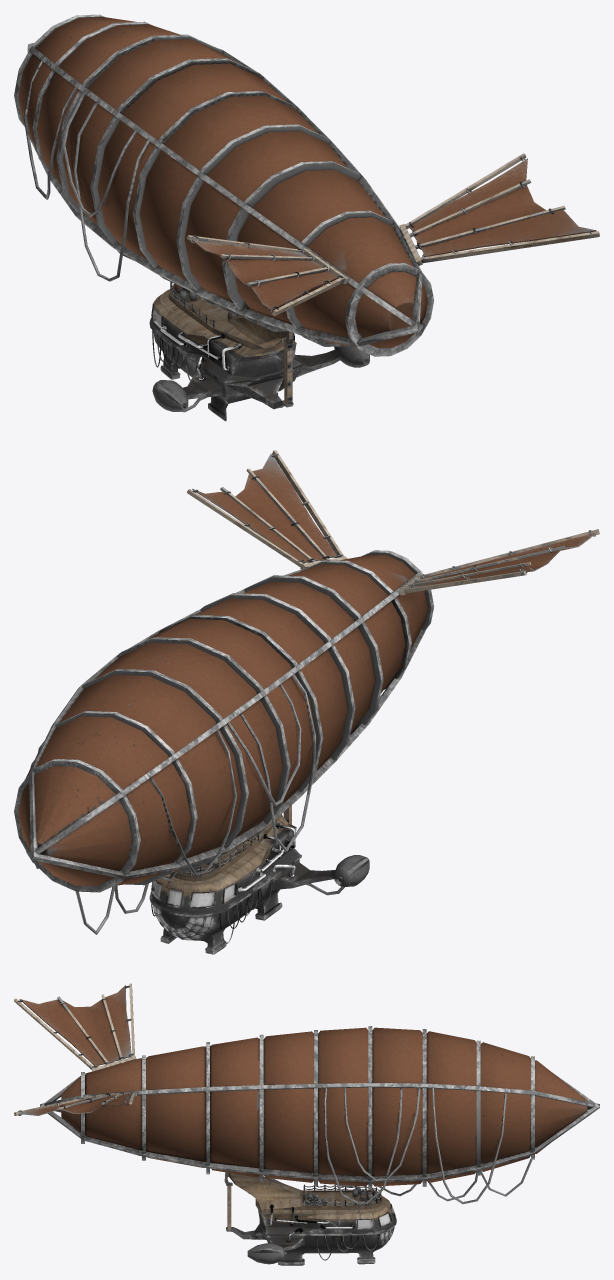
The model's file is DirigibleSteampunk.obj.
3 renders of one model, top to bottom at view 1: azimuth 30°, elevation 25°; view 2: azimuth 150°, elevation 25°; view 3: azimuth 270°, elevation 25°, orthographic. The views are drawn at different scales.
Visible parts, largest first — view 1: cuerpoDirigible_02___Default, cuerpoDirigible_wire_184228153, cuerpoDirigible_wire_028028177, cuerpoDirigible_wire_087225198; view 2: cuerpoDirigible_02___Default, cuerpoDirigible_wire_184228153, cuerpoDirigible_wire_028028177, cuerpoDirigible_wire_008110135, cuerpoDirigible_wire_087225198; view 3: cuerpoDirigible_02___Default, cuerpoDirigible_wire_184228153, cuerpoDirigible_wire_028028177, cuerpoDirigible_wire_008110135, cuerpoDirigible_wire_087225198.
Part boxes in pixels (x1,y1,x2,y2): cuerpoDirigible_02___Default: (14,14,599,421); cuerpoDirigible_wire_184228153: (23,60,149,281); cuerpoDirigible_wire_028028177: (152,346,369,411); cuerpoDirigible_wire_087225198: (160,325,294,380); cuerpoDirigible_02___Default: (14,450,599,954); cuerpoDirigible_wire_184228153: (30,674,315,875); cuerpoDirigible_wire_028028177: (333,855,369,887); cuerpoDirigible_wire_008110135: (76,872,344,934); cuerpoDirigible_wire_087225198: (238,822,295,892); cuerpoDirigible_02___Default: (14,983,599,1265); cuerpoDirigible_wire_184228153: (324,1087,506,1204); cuerpoDirigible_wire_028028177: (247,1176,284,1264); cuerpoDirigible_wire_008110135: (336,1158,532,1201); cuerpoDirigible_wire_087225198: (269,1204,354,1242).
Size of the model in its own units: 9.25 by 8.08 by 19.26.
